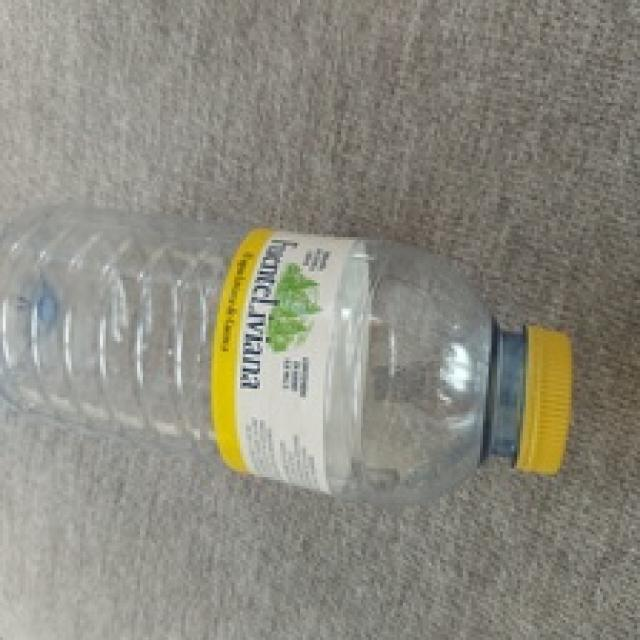Plastic: (0, 208, 577, 496)
